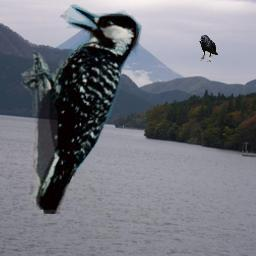Crow: (199, 35, 218, 62)
Woodpecker: (21, 4, 145, 214)
